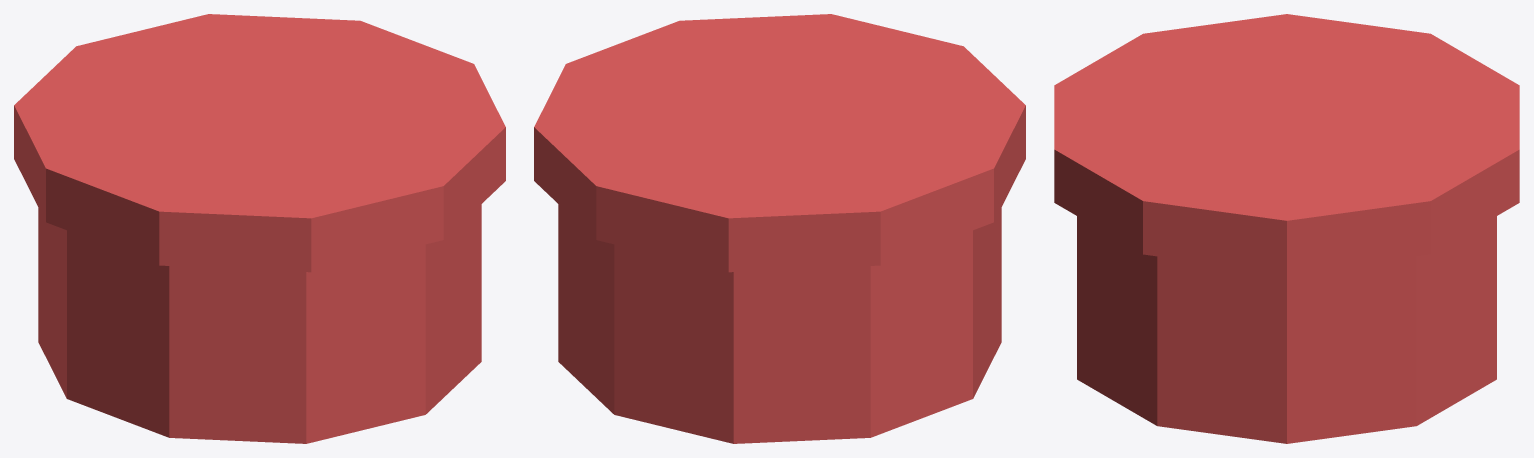
Rendered from mesh_pipe_COLLISION.fbx.
The picture shows the model from 3 angles, left to right: view 1: azimuth 30°, elevation 25°; view 2: azimuth 150°, elevation 25°; view 3: azimuth 270°, elevation 25°; orthographic projection.
Visible parts, largest first — view 1: mesh_pipe_COLLISION; view 2: mesh_pipe_COLLISION; view 3: mesh_pipe_COLLISION.
Part boxes in pixels (x1,y1,x2,y2): mesh_pipe_COLLISION: [14, 14, 505, 443]; mesh_pipe_COLLISION: [534, 14, 1025, 443]; mesh_pipe_COLLISION: [1054, 14, 1519, 443].
Bounding box in the file's own units: 2.87 × 1.51 × 2.73.
